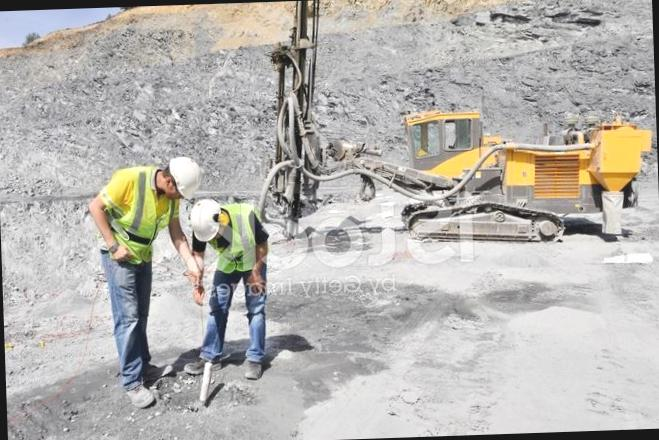helmet: (166, 156, 204, 204), (186, 199, 224, 246)
person: (82, 148, 212, 414), (172, 193, 279, 386)
